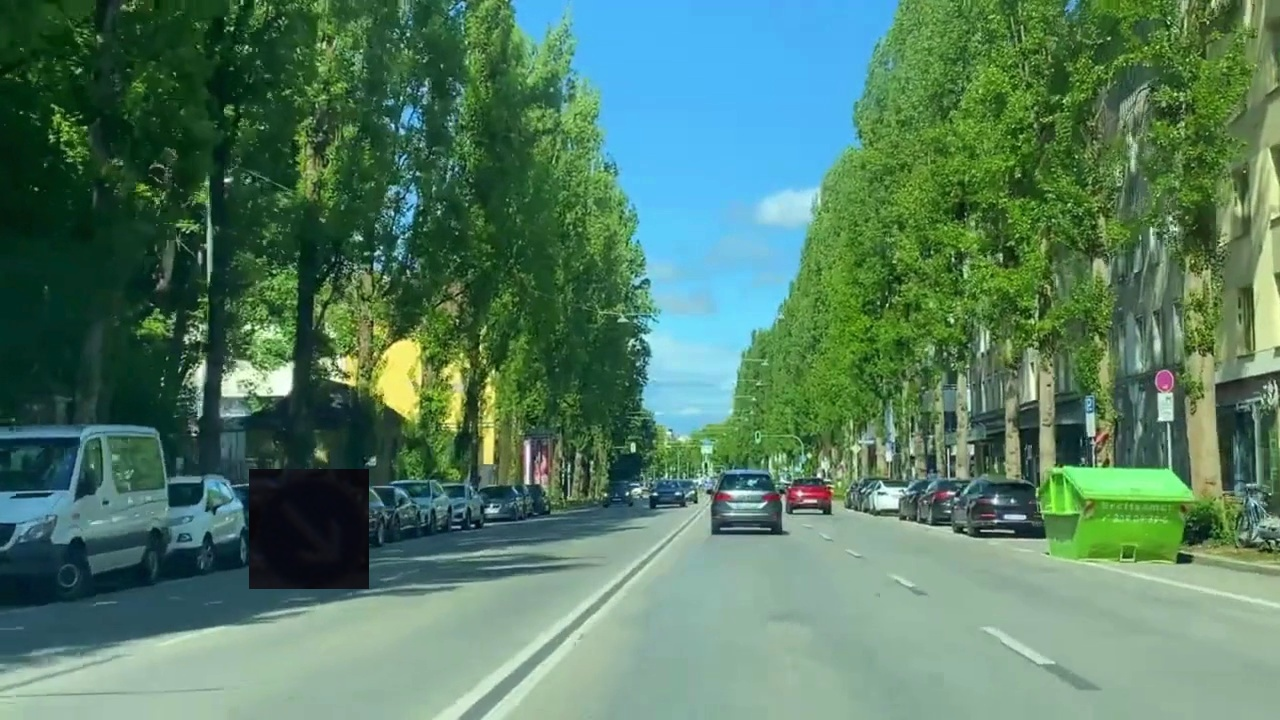Keep right: (249, 469, 369, 589)
